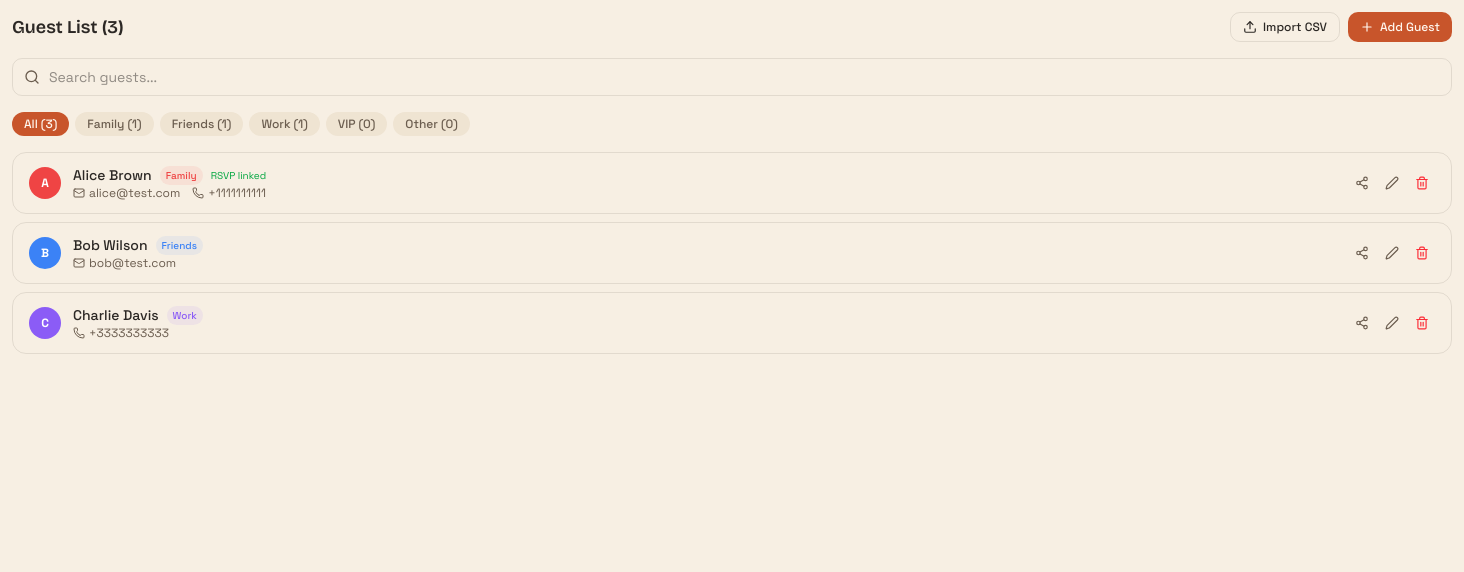
GuestListManager › shows CSV import area when import button is clicked
Step 1. Click the button with test id "import-csv-btn" → click(1285, 27), box x1=1230 y1=12 x2=1340 y2=42
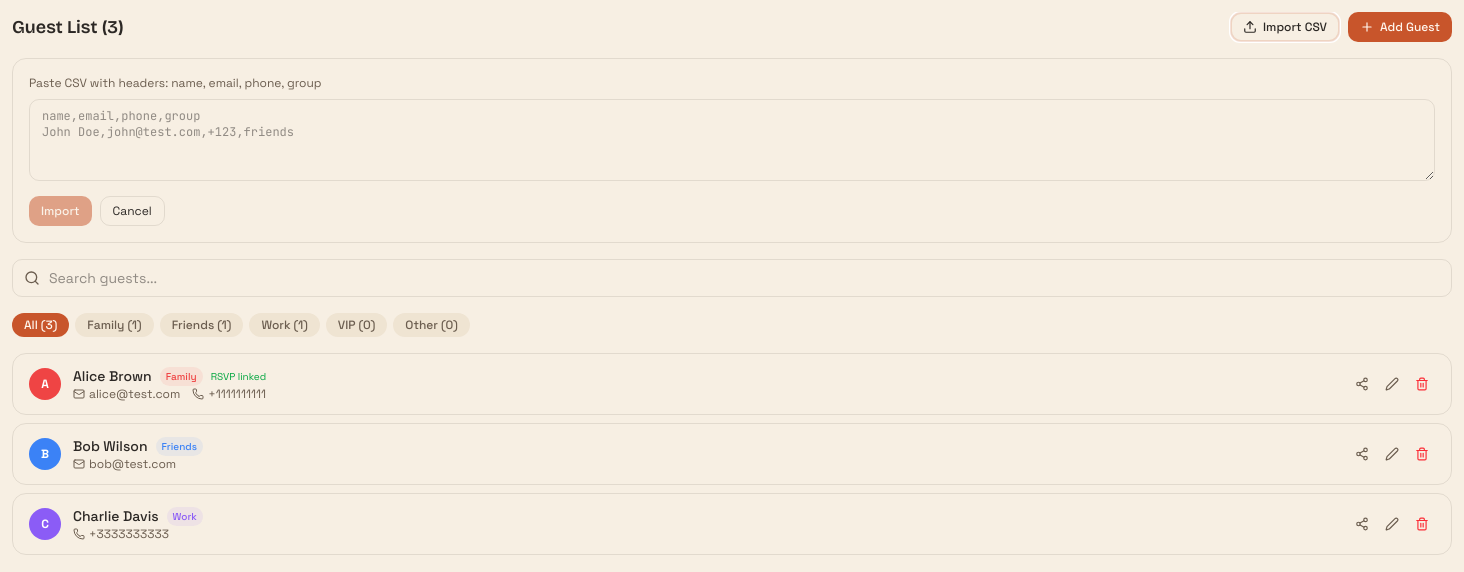
Now the element with test id "csv-import" is shown, box x1=12 y1=58 x2=1452 y2=243
Now the text box with test id "csv-textarea" is shown, box x1=29 y1=99 x2=1435 y2=181
